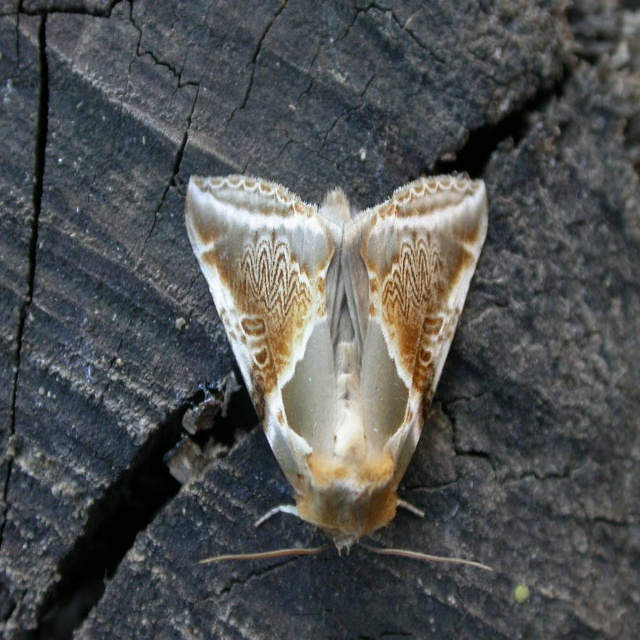Moths and butterflies: (182, 178, 498, 570)
